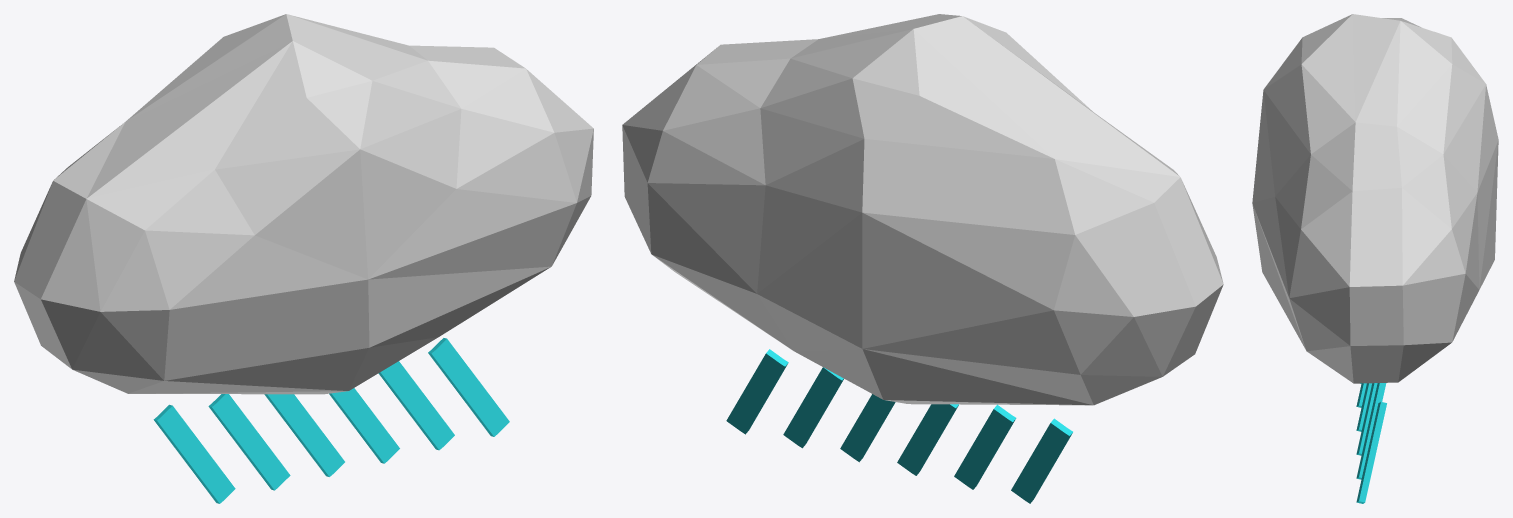
Rendered from rain.glb.
3 views of the same model, side by side, from view 1: azimuth 30°, elevation 25°; view 2: azimuth 150°, elevation 25°; view 3: azimuth 270°, elevation 25° (orthographic). The views are drawn at different scales.
Visible parts, largest first — view 1: Mball.004, Plane; view 2: Mball.004, Plane; view 3: Mball.004, Plane.
Part boxes in pixels (x1,y1,x2,y2): Mball.004: (14, 14, 593, 394); Plane: (153, 338, 509, 503); Mball.004: (622, 14, 1223, 405); Plane: (726, 349, 1072, 503); Mball.004: (1252, 14, 1498, 383); Plane: (1356, 383, 1386, 503).
Bounding box in the file's own units: 4.46 × 3.49 × 1.93.
